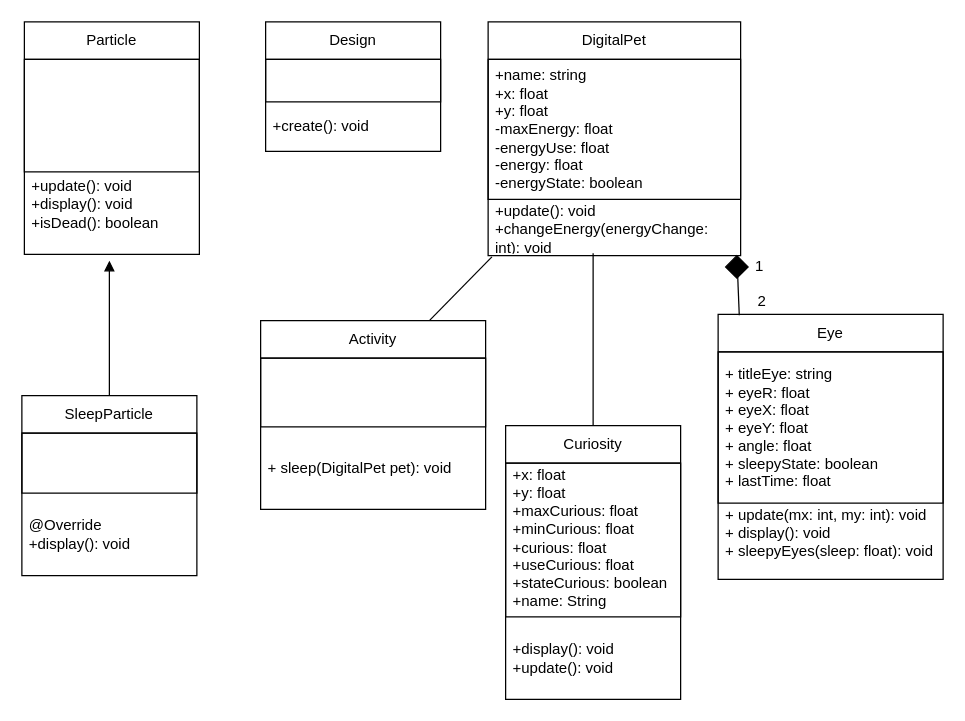
Some shapes in this 965 by 721 pixel diagram are drawn without their labels. Here are the shapes that lost their labels. From the top down, the centre of each, then its label:
At pixel 111 115: "+x: float +y: float +vx: float +vy: float +alpha: float".
At pixel 372 392: "+ title: string + energyChange: int".
At pixel 109 462: "+size: float".
